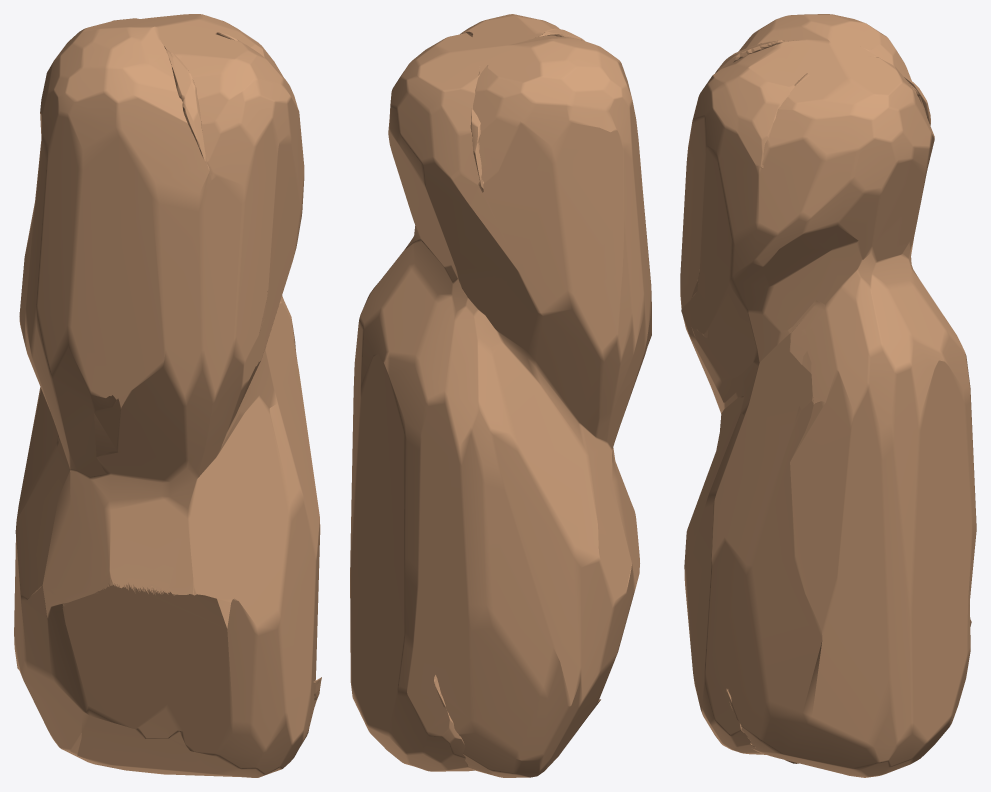
3 views of the same model, side by side, from view 1: azimuth 30°, elevation 25°; view 2: azimuth 150°, elevation 25°; view 3: azimuth 270°, elevation 25° (orthographic). The views are drawn at different scales.
Visible parts, largest first — view 1: Mesh_13_LOD0; view 2: Mesh_13_LOD0; view 3: Mesh_13_LOD0.
Boxes of the visible parts, x1,y1,x2,y2 form: Mesh_13_LOD0: [14, 14, 321, 777]; Mesh_13_LOD0: [350, 14, 651, 777]; Mesh_13_LOD0: [680, 14, 976, 777].
Size of what is drawn, in the model's own units: 396 by 1016 by 387.
